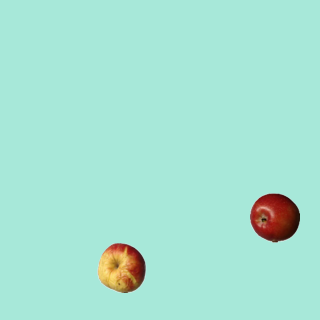Apple Braeburn: (249, 192, 299, 242)
Apple Red Yellow 1: (96, 242, 146, 292)
